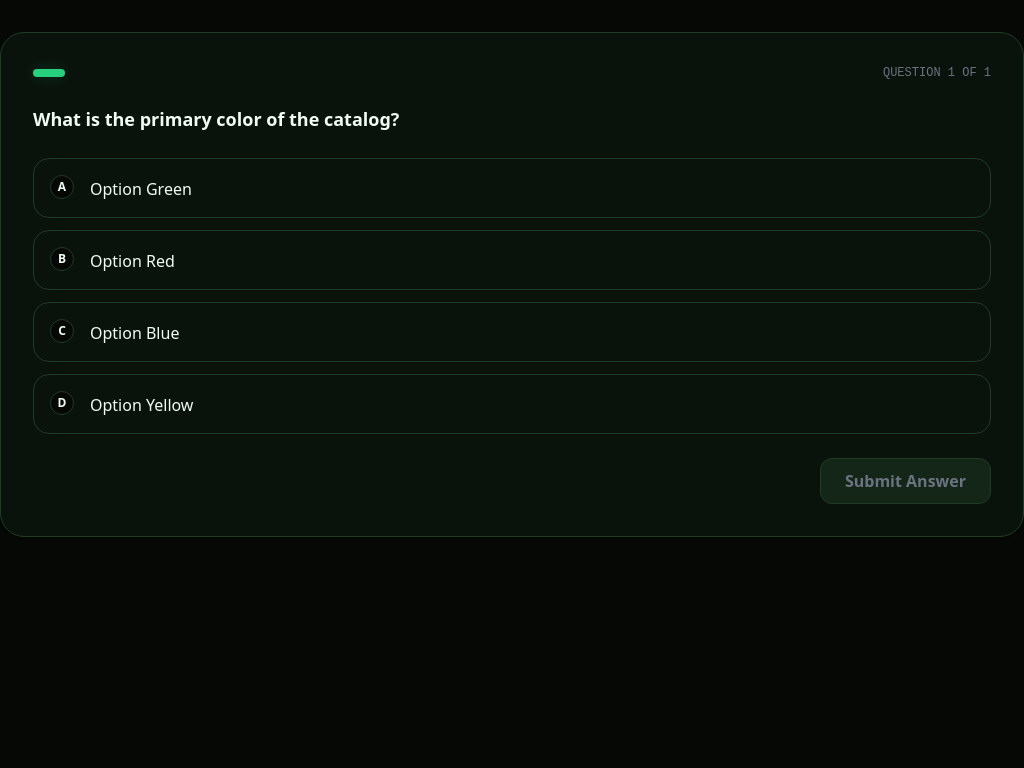
Test: InteractiveQuiz Component › handles incorrect answer, shows retry button, and reshuffles choices on retry
Note: Click incorrect option 'Option Red'
Click the button "B Option Red": {"x": 132, "y": 261} [33,230,991,290]
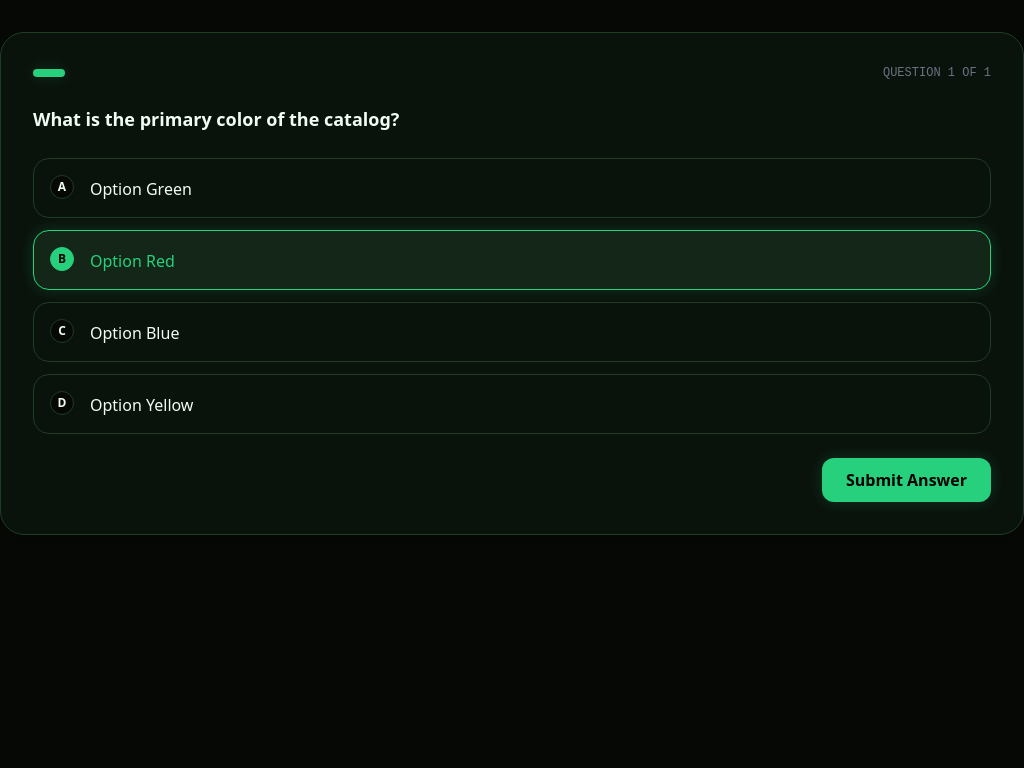
Click the button "Submit Answer": {"x": 906, "y": 480} [822,458,991,502]
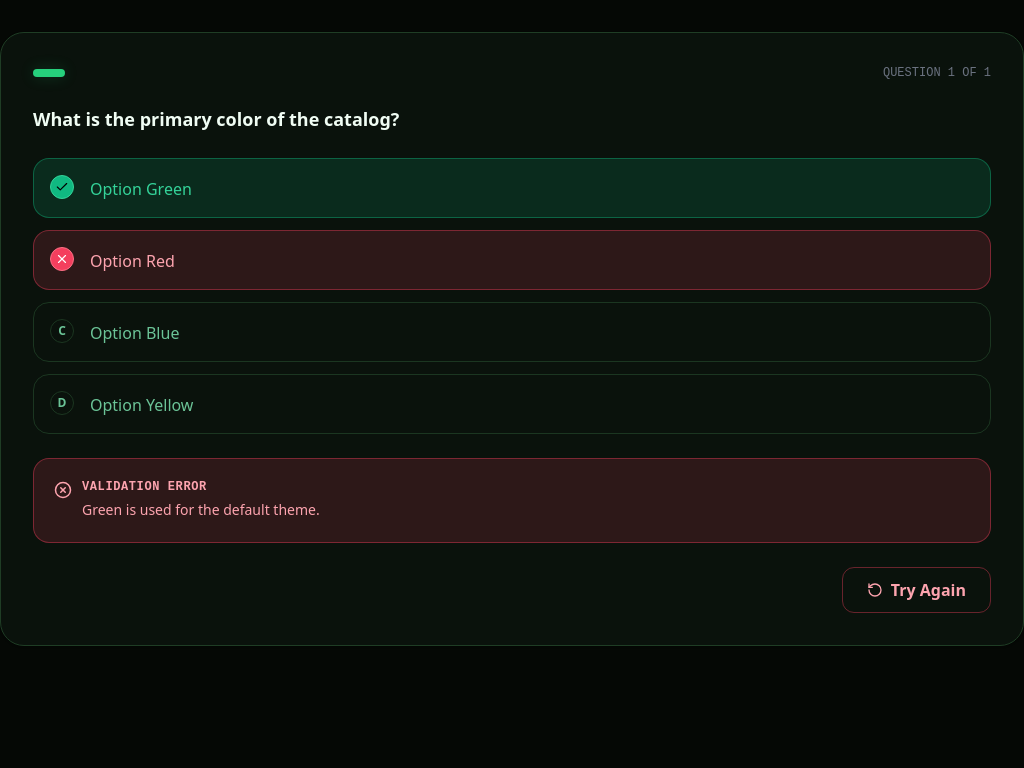
Check: the text "Validation Error" is shown, box [82,480,207,494]
Check: the text "Green is used for the default theme." is shown, box [82,499,320,522]
Note: Click Try Again
Click the button "Try Again": {"x": 916, "y": 590} [842,567,991,613]
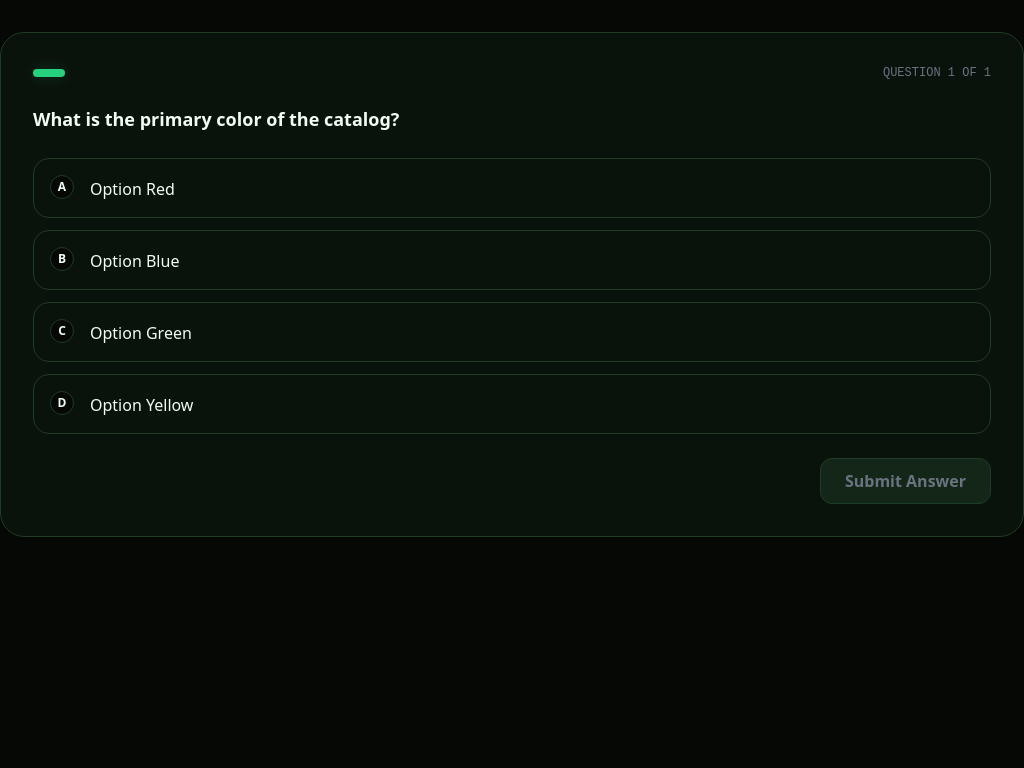
Check: the text "Validation Error" is gone
Check: the text "Option Red" is shown, box [90,175,175,201]
Check: the text "Option Green" is shown, box [90,319,192,345]
